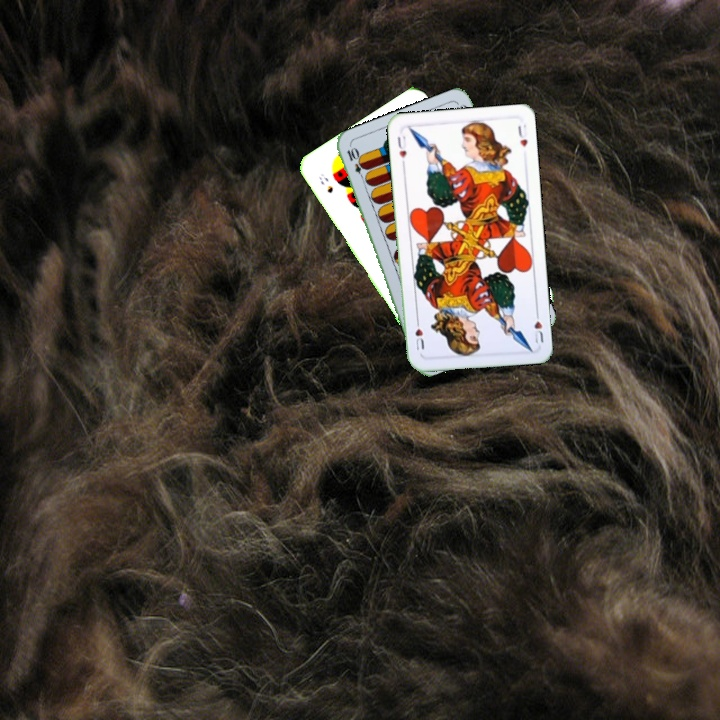E10: (343, 144, 368, 183)
HU: (530, 306, 546, 346), (393, 132, 409, 168)
S8: (315, 169, 336, 196)
